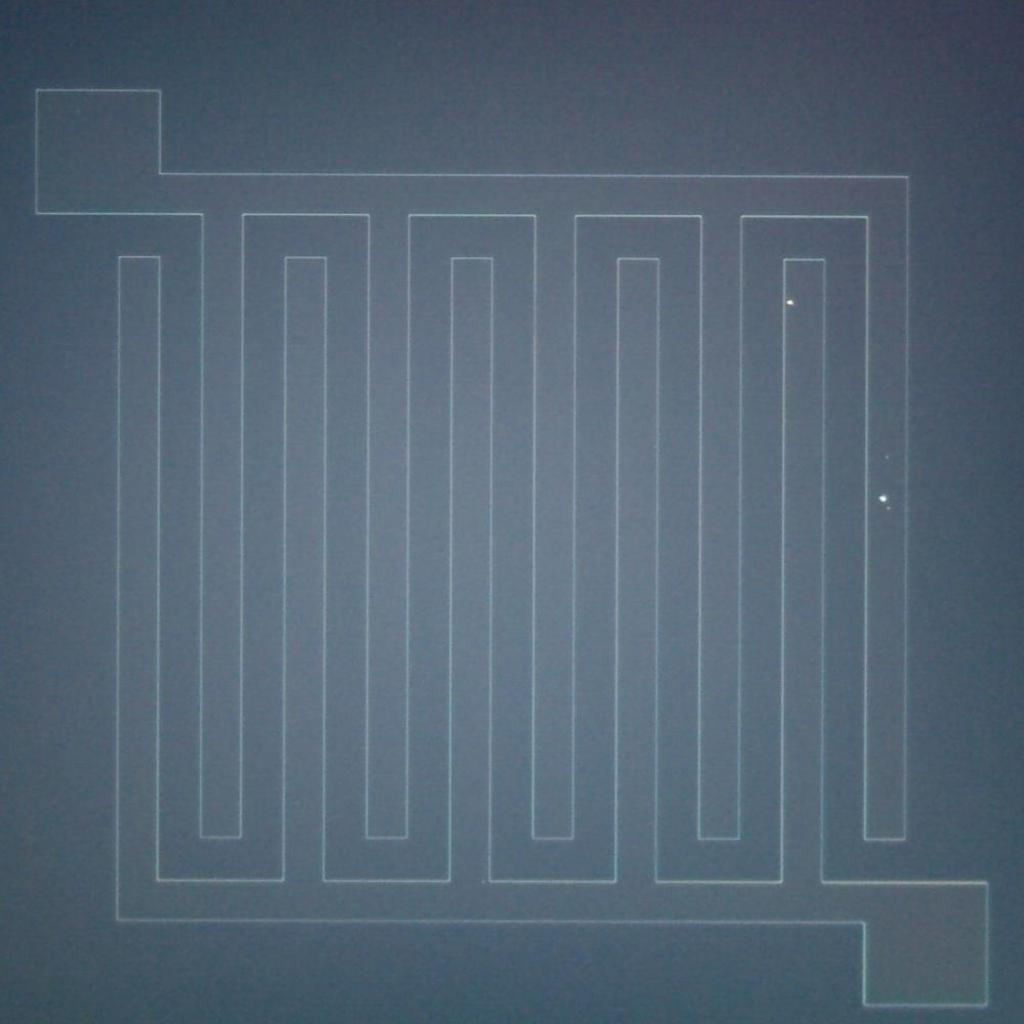dot: (786, 296, 796, 308), (878, 494, 888, 503)
